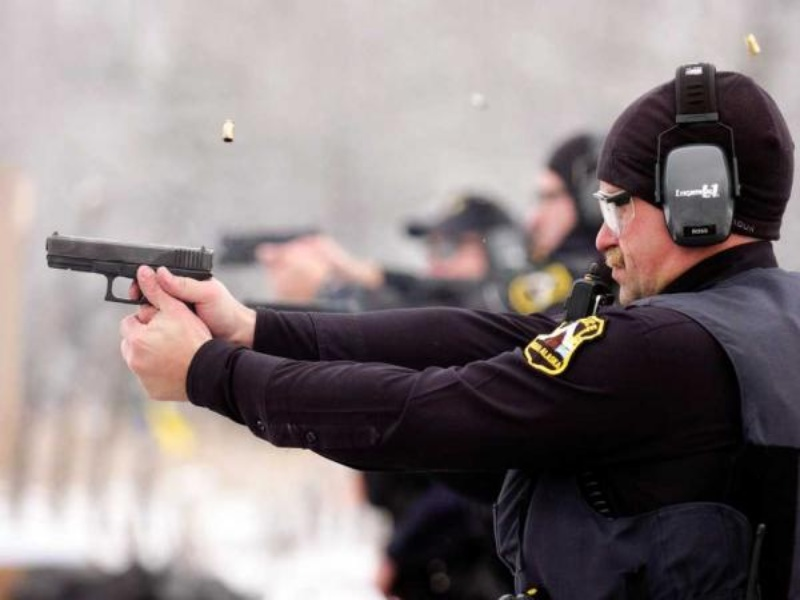gun: (36, 231, 216, 371)
